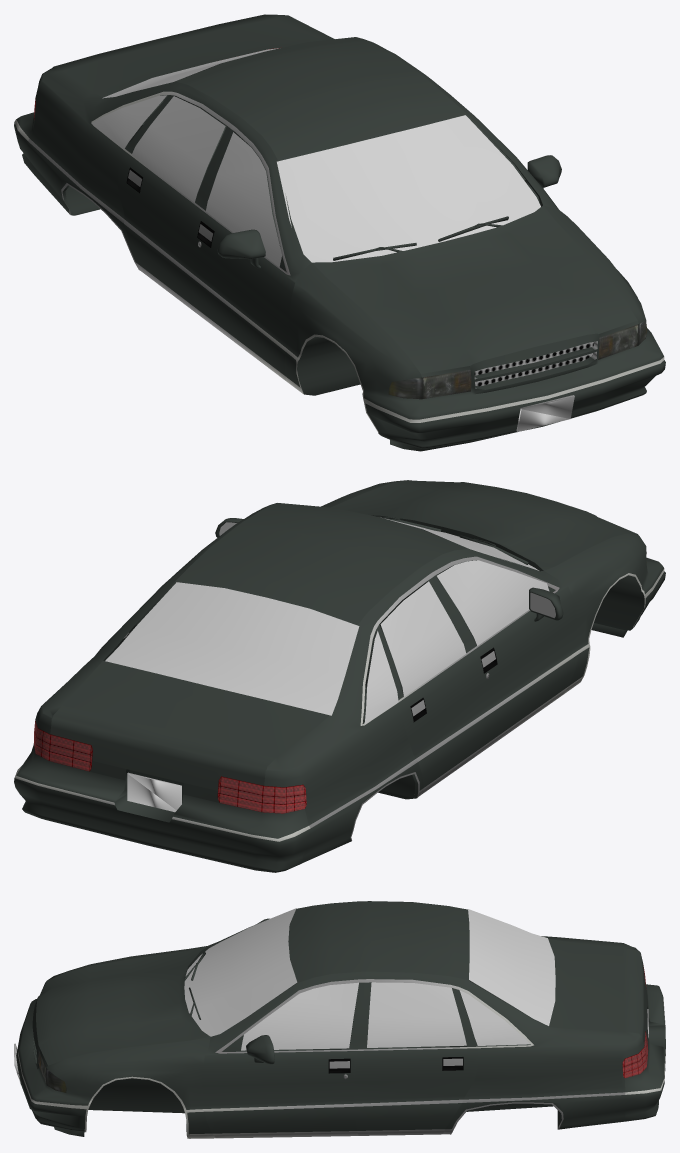
File: RacingCar3.fbx
The picture shows the model from 3 angles, top to bottom: view 1: azimuth 30°, elevation 25°; view 2: azimuth 150°, elevation 25°; view 3: azimuth 270°, elevation 25°; orthographic projection. The views are drawn at different scales.
Visible parts, largest first — view 1: Body, Window, Light_Right, Plate_Front, Light_Left; view 2: Body, Window, Plate_Back; view 3: Body, Window, Light_Left.
Boxes of the visible parts, x1,y1,x2,y2 form: Body: [14, 14, 665, 451]; Window: [91, 48, 540, 267]; Light_Right: [388, 370, 471, 399]; Plate_Front: [516, 395, 574, 431]; Light_Left: [598, 320, 647, 359]; Body: [14, 480, 665, 872]; Window: [105, 517, 549, 724]; Plate_Back: [127, 772, 181, 812]; Body: [16, 901, 665, 1138]; Window: [184, 908, 555, 1050]; Light_Left: [38, 1051, 66, 1092].
Size of the model in its own units: 3.53 by 1.96 by 7.23.
